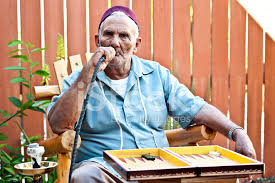middle_eastern_male: (100, 18, 142, 65)
